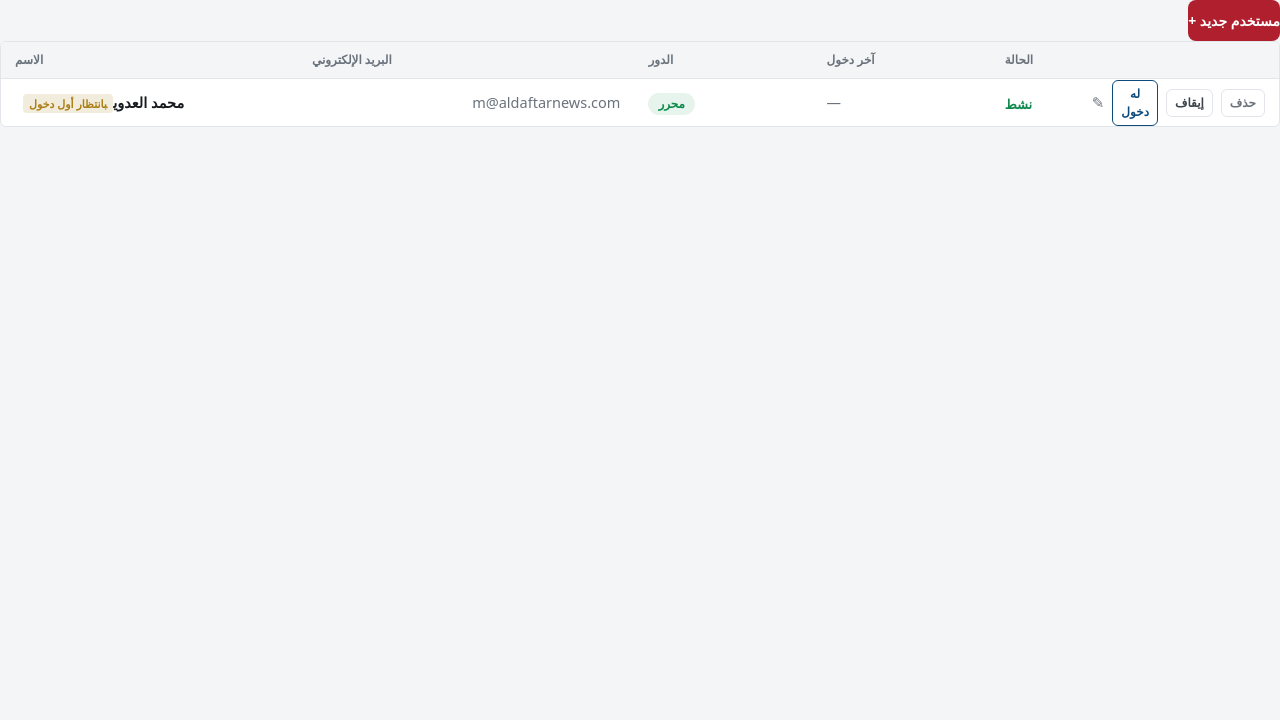
Test: UsersManager › does not fabricate an account when the create request fails
Click the button "+ مستخدم جديد" at [1234, 20], box [1188,0,1279,41]
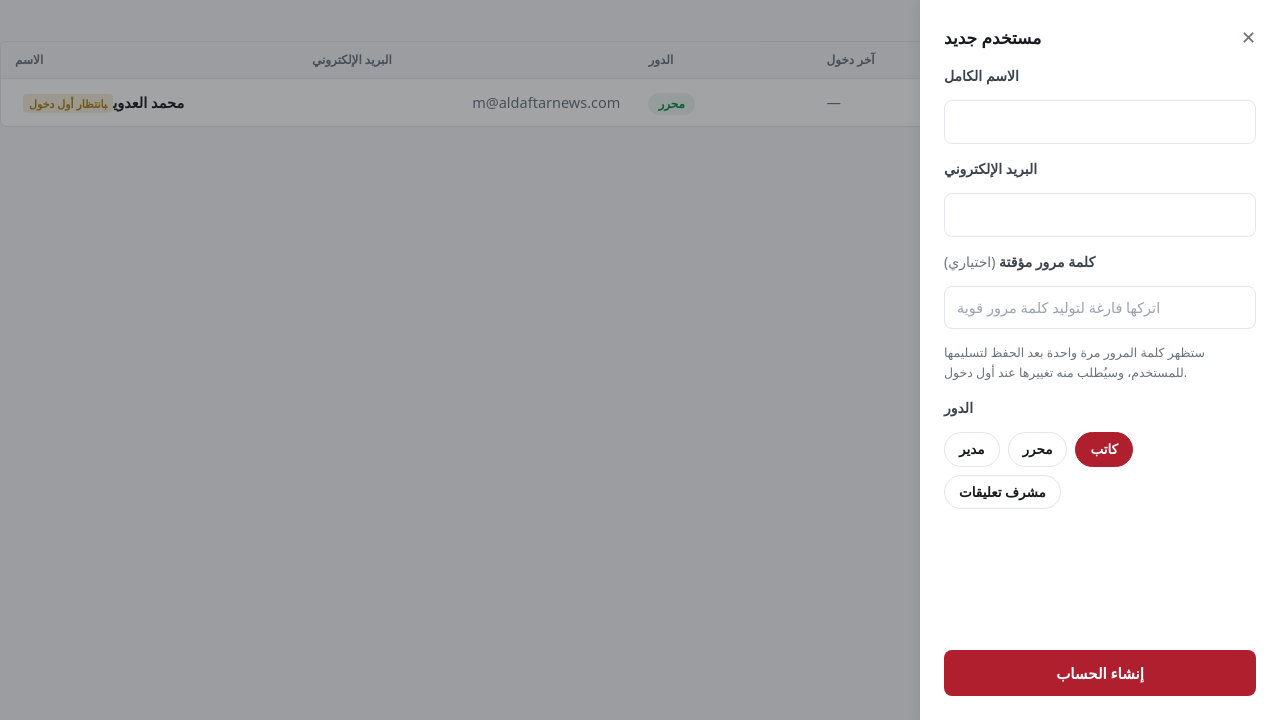
Type "مستخدم وهمي" into the field labelled "الاسم الكامل" at [1100, 122], box [944,100,1256,144]
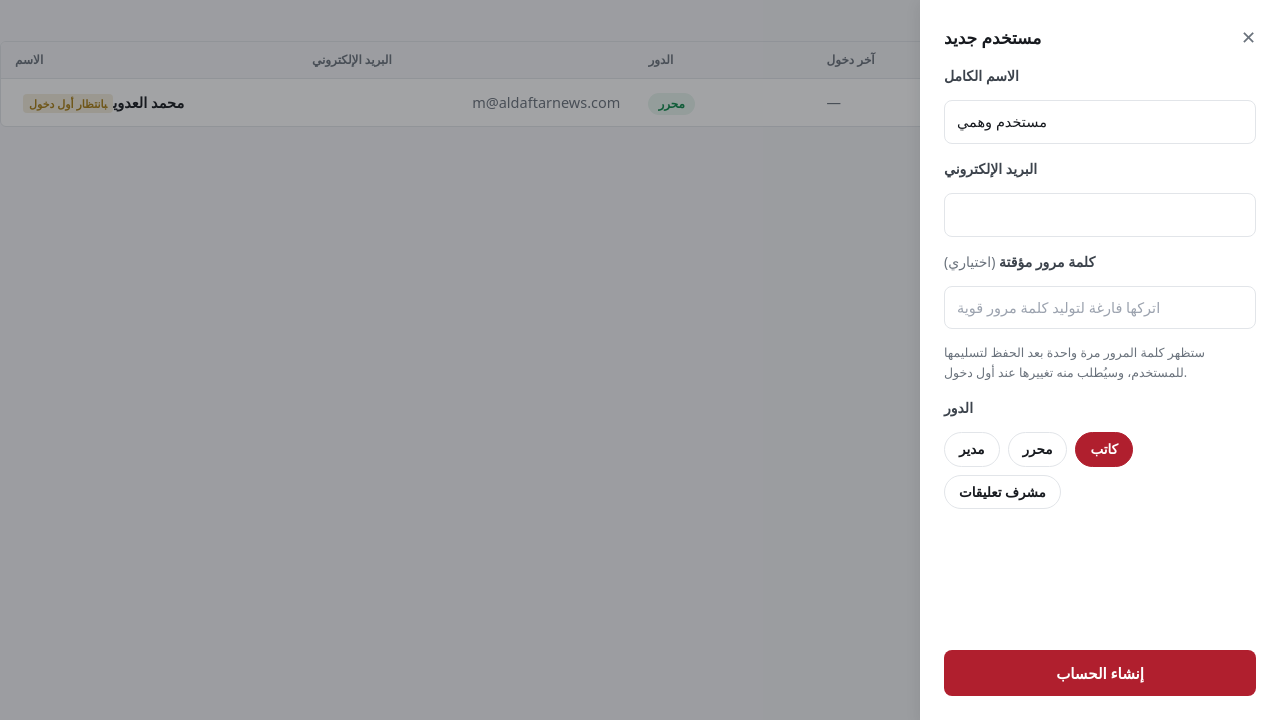
Type "fake@aldaftarnews.com" into the field labelled "البريد الإلكتروني" at [1100, 215], box [944,193,1256,237]
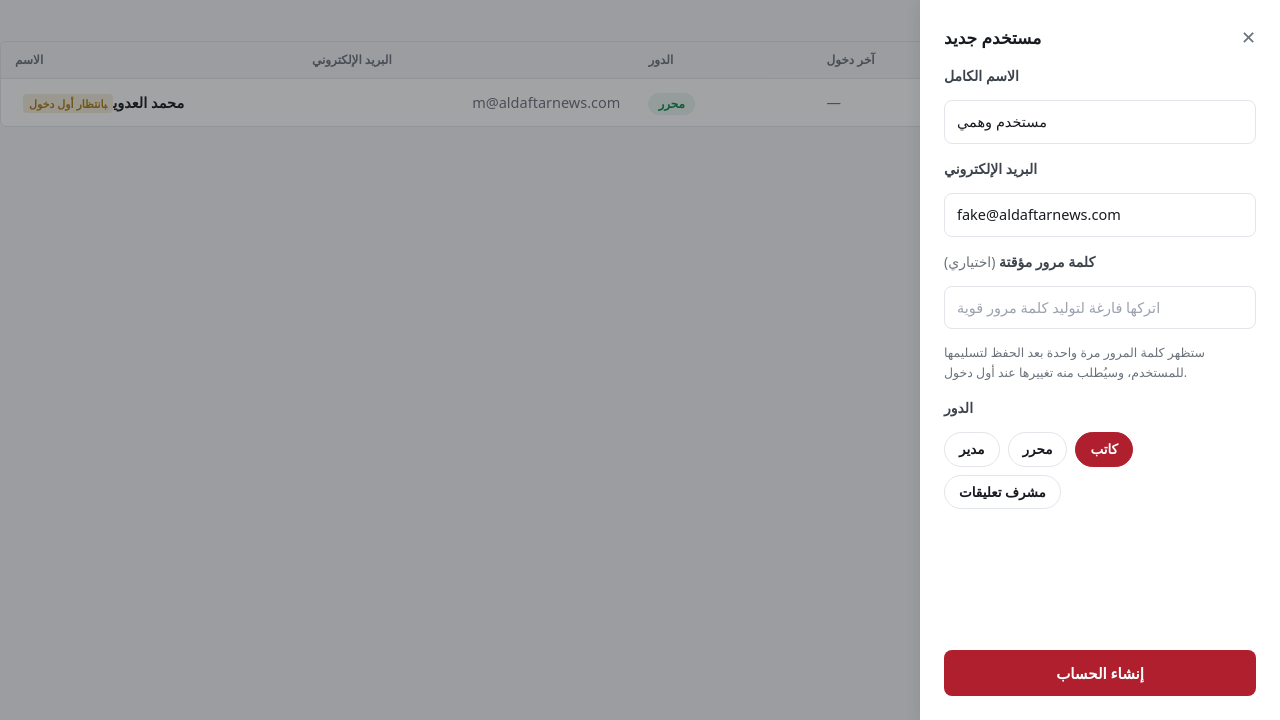
Click the button "إنشاء الحساب" at [1100, 673], box [944,650,1256,696]
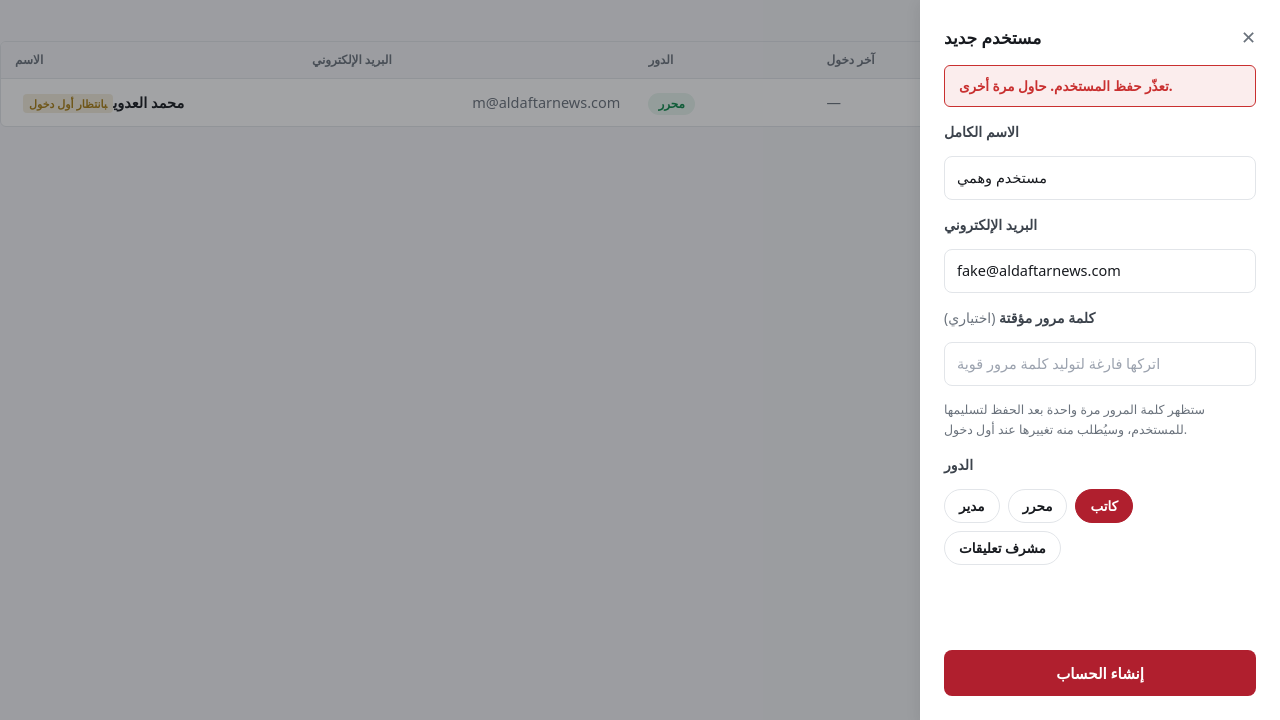
Expected: the message "تعذّر حفظ المستخدم. حاول مرة أخرى." is shown, [944,65,1256,107]
